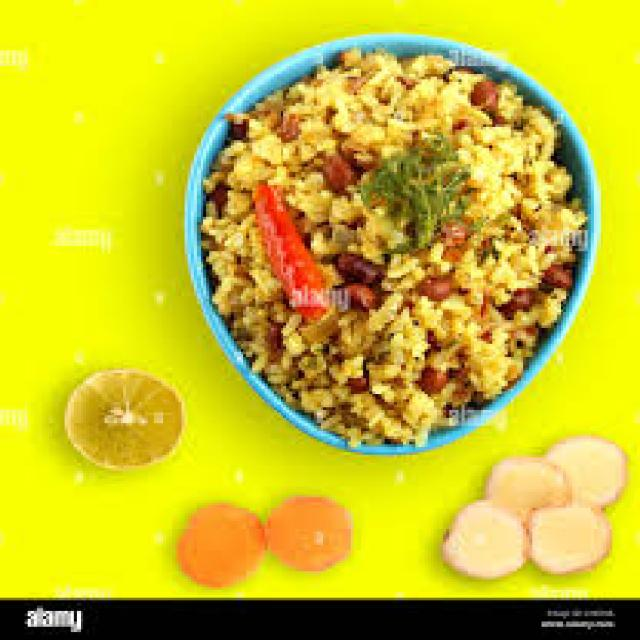POHA: (216, 50, 582, 437)
